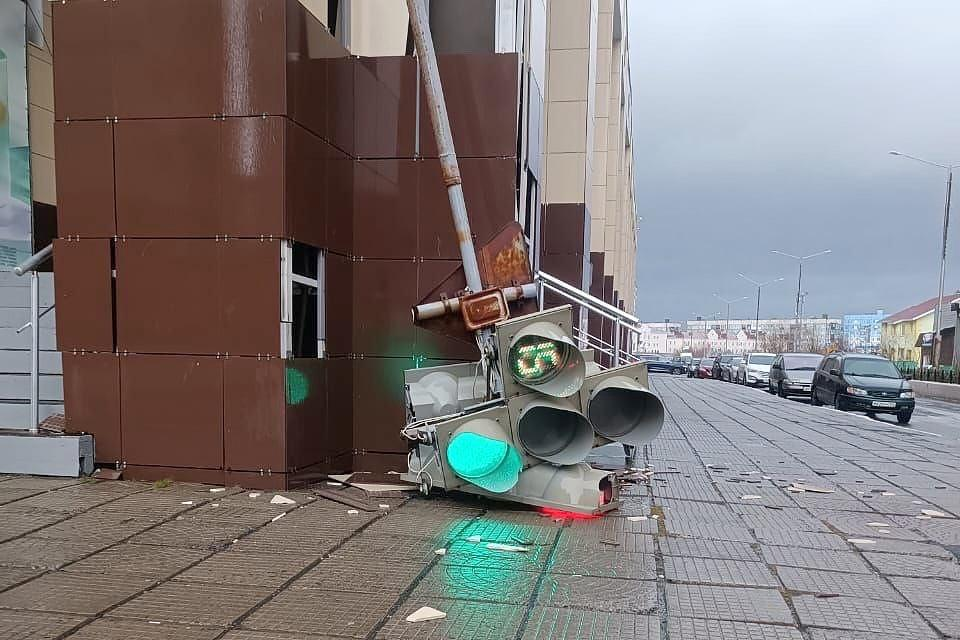off traffic light: (401, 272, 665, 518)
